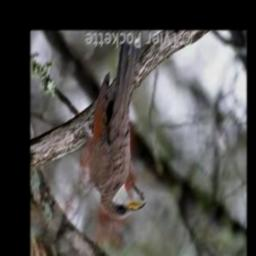Cuckoo: (90, 38, 146, 220)
